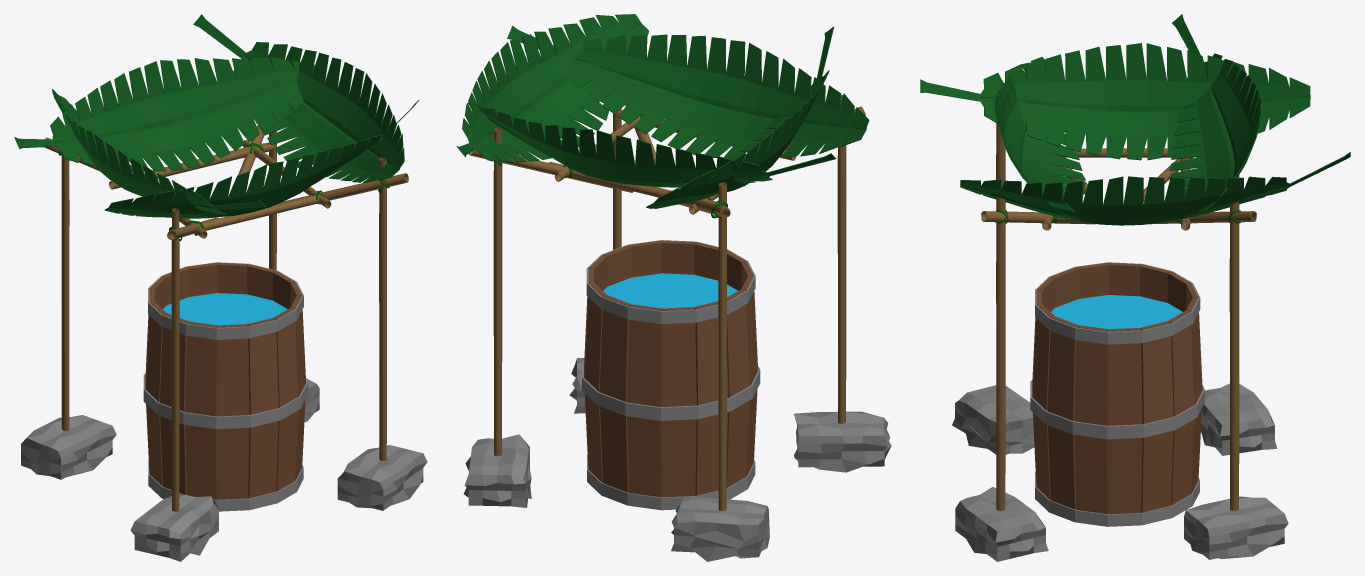
Rendered from water collector.fbx.
3 views of the same model, side by side, from view 1: azimuth 30°, elevation 25°; view 2: azimuth 150°, elevation 25°; view 3: azimuth 270°, elevation 25° (orthographic). The views are drawn at different scales.
Visible parts, largest first — view 1: Circle; view 2: Circle; view 3: Circle.
Boxes of the visible parts, box(x1,y1,x2,y2) form: Circle: box(14, 14, 427, 561); Circle: box(456, 14, 891, 561); Circle: box(920, 14, 1350, 561).
Bounding box in the file's own units: 549 × 559 × 552.
